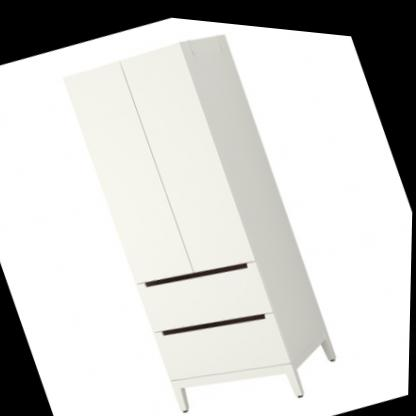Cabinet: (48, 6, 359, 416)
